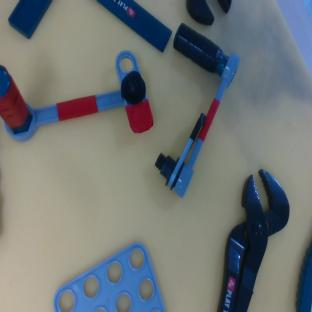non_pass: (119, 22, 245, 197)
pass: (0, 49, 153, 143)
